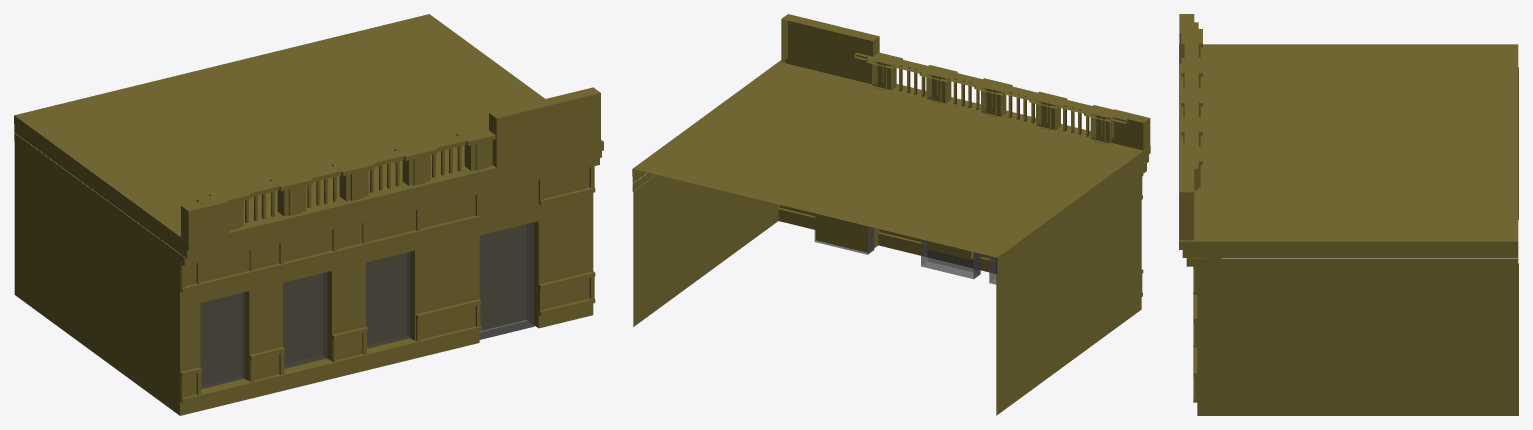
Rendered from edificio 2.fbx.
3 renders of one model, left to right at view 1: azimuth 30°, elevation 25°; view 2: azimuth 150°, elevation 25°; view 3: azimuth 270°, elevation 25°, orthographic. The views are drawn at different scales.
Visible parts, largest first — view 1: Base, Ventanas y Puertas; view 2: Base, Ventanas y Puertas; view 3: Base.
Part boxes in pixels (x1,y1,x2,y2): Base: [14, 14, 603, 415]; Ventanas y Puertas: [200, 222, 534, 388]; Base: [632, 14, 1150, 415]; Ventanas y Puertas: [814, 203, 1092, 284]; Base: [1179, 14, 1518, 415].
Bounding box in the file's own units: 1933 × 1028 × 1409.
